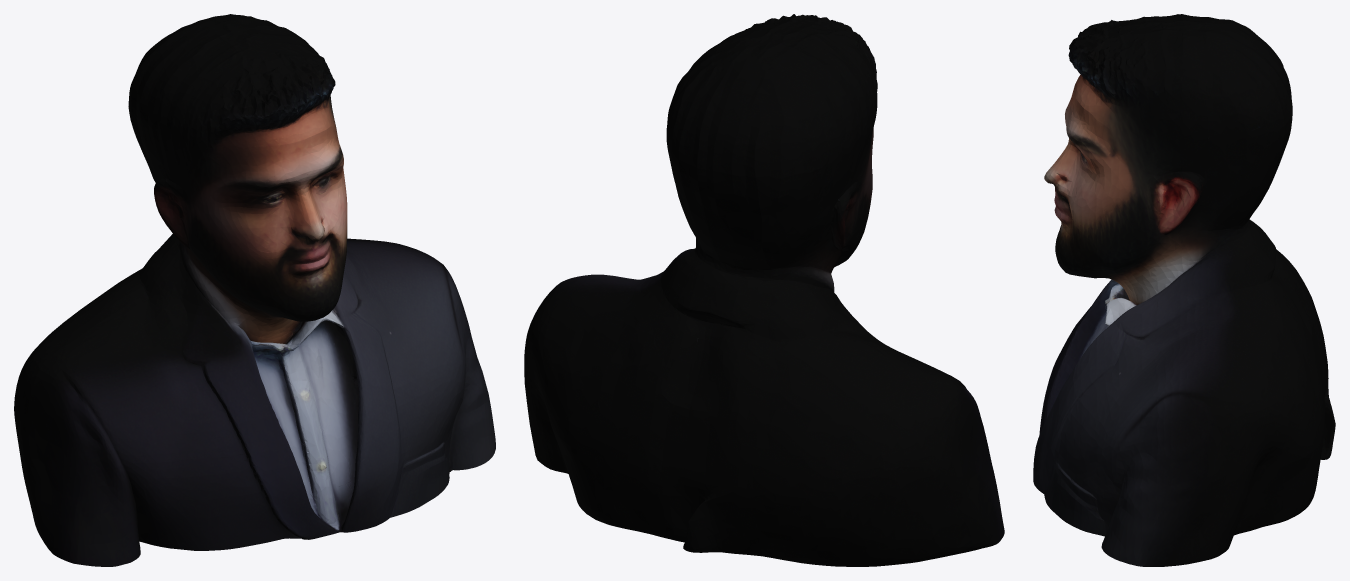
Rendered from sample.glb.
The picture shows the model from 3 angles, left to right: view 1: azimuth 30°, elevation 25°; view 2: azimuth 150°, elevation 25°; view 3: azimuth 270°, elevation 25°; orthographic projection. The views are drawn at different scales.
Parts seen in each view (by area): view 1: world; view 2: world; view 3: world.
Part boxes in pixels (x1=…): world: x1=14, y1=14, x2=495, y2=566; world: x1=524, y1=14, x2=1004, y2=566; world: x1=1033, y1=14, x2=1335, y2=566.
Bounding box in the file's own units: 0.9969 × 0.9984 × 0.6206.
Materials: 1 (1 with a texture image).
